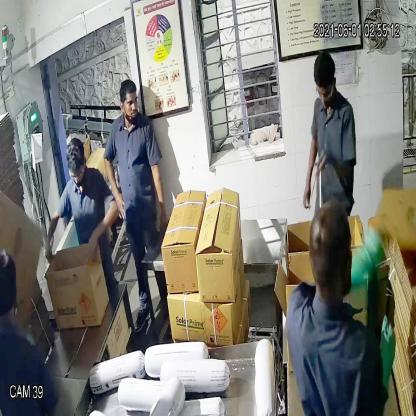goggles: (64, 161, 86, 186), (314, 82, 337, 103)
